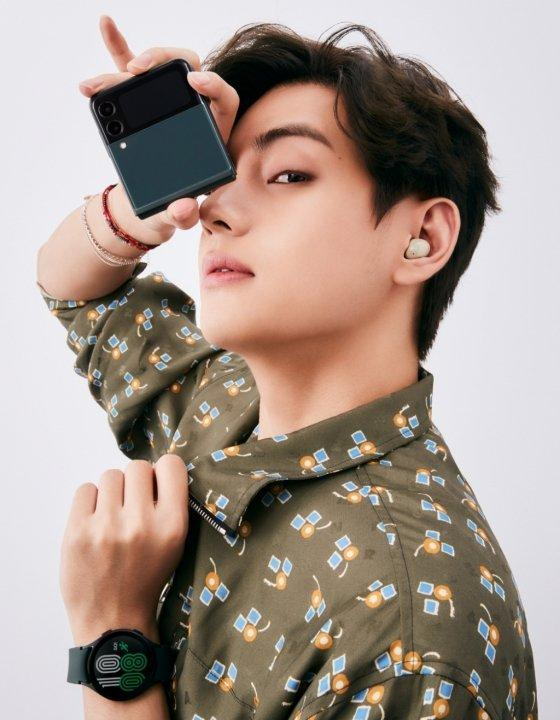earphone: (400, 228, 432, 266)
